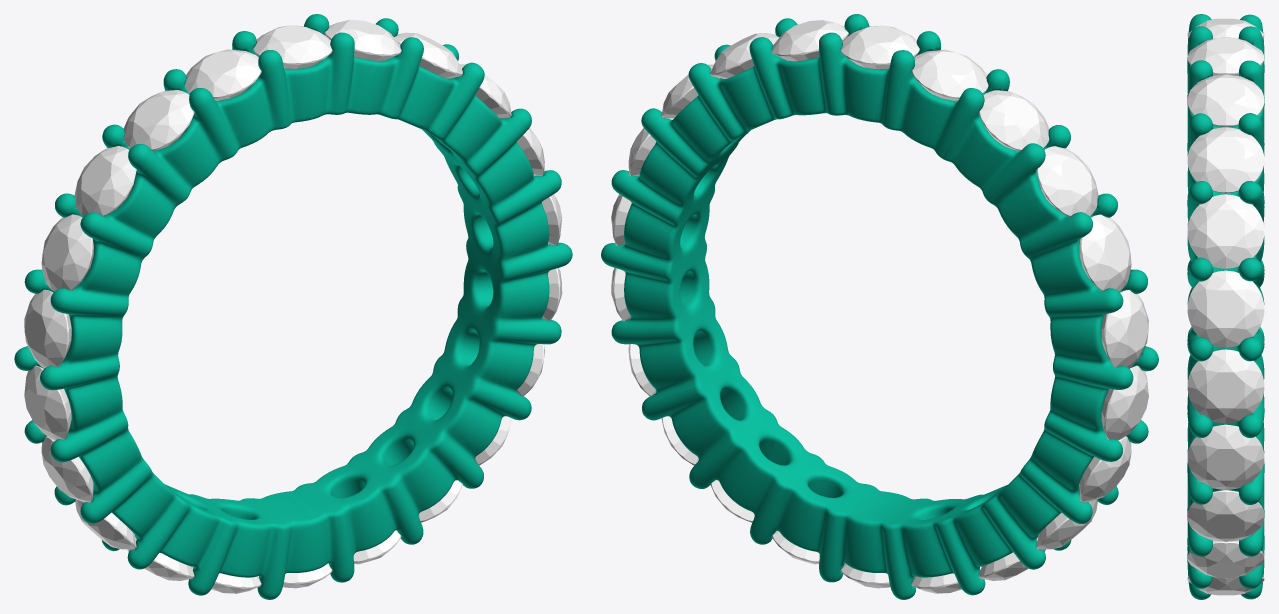
File: BE2U10D3_RENDER.glb
3 views of the same model, side by side, from view 1: azimuth 30°, elevation 25°; view 2: azimuth 150°, elevation 25°; view 3: azimuth 270°, elevation 25° (orthographic). The views are drawn at different scales.
Visible parts, largest first — view 1: Metal03, Diamond_Round_Gem_BD.018, Diamond_Round_Gem_BD.019, Diamond_Round_Gem_BD.017, Diamond_Round_Gem_BD.020, Diamond_Round_Gem_BD.016, Diamond_Round_Gem_BD.021, Diamond_Round_Gem_BD.015, Diamond_Round_Gem_BD, Diamond_Round_Gem_BD.014, Diamond_Round_Gem_BD.001, Diamond_Round_Gem_BD.013 (+4 smaller); view 2: Metal03, Diamond_Round_Gem_BD.018, Diamond_Round_Gem_BD.019, Diamond_Round_Gem_BD.017, Diamond_Round_Gem_BD.020, Diamond_Round_Gem_BD.016, Diamond_Round_Gem_BD.021, Diamond_Round_Gem_BD.015, Diamond_Round_Gem_BD, Diamond_Round_Gem_BD.014, Diamond_Round_Gem_BD.001, Diamond_Round_Gem_BD.013 (+4 smaller); view 3: Metal03, Diamond_Round_Gem_BD.003, Diamond_Round_Gem_BD.002, Diamond_Round_Gem_BD.004, Diamond_Round_Gem_BD.001, Diamond_Round_Gem_BD.005, Diamond_Round_Gem_BD, Diamond_Round_Gem_BD.006, Diamond_Round_Gem_BD.021, Diamond_Round_Gem_BD.007, Diamond_Round_Gem_BD.020, Diamond_Round_Gem_BD.008.
Boxes of the visible parts, box(x1,y1,x2,y2) form: Metal03: box(14, 14, 572, 599); Diamond_Round_Gem_BD.018: box(74, 146, 136, 216); Diamond_Round_Gem_BD.019: box(123, 90, 194, 150); Diamond_Round_Gem_BD.017: box(41, 214, 93, 291); Diamond_Round_Gem_BD.020: box(184, 49, 261, 100); Diamond_Round_Gem_BD.016: box(24, 289, 71, 368); Diamond_Round_Gem_BD.021: box(253, 25, 332, 68); Diamond_Round_Gem_BD.015: box(24, 365, 71, 440); Diamond_Round_Gem_BD: box(324, 19, 401, 60); Diamond_Round_Gem_BD.014: box(41, 436, 93, 502); Diamond_Round_Gem_BD.001: box(394, 32, 462, 78); Diamond_Round_Gem_BD.013: box(75, 499, 136, 549); Metal03: box(601, 14, 1158, 599); Diamond_Round_Gem_BD.018: box(1036, 146, 1098, 216); Diamond_Round_Gem_BD.019: box(978, 90, 1049, 151); Diamond_Round_Gem_BD.017: box(1079, 214, 1131, 291); Diamond_Round_Gem_BD.020: box(911, 49, 988, 100); Diamond_Round_Gem_BD.016: box(1101, 290, 1148, 368); Diamond_Round_Gem_BD.021: box(840, 25, 919, 69); Diamond_Round_Gem_BD.015: box(1101, 365, 1148, 440); Diamond_Round_Gem_BD: box(771, 20, 848, 61); Diamond_Round_Gem_BD.014: box(1079, 436, 1131, 502); Diamond_Round_Gem_BD.001: box(710, 33, 779, 78); Diamond_Round_Gem_BD.013: box(1036, 499, 1097, 549); Metal03: box(1187, 14, 1264, 599); Diamond_Round_Gem_BD.003: box(1187, 270, 1264, 347); Diamond_Round_Gem_BD.002: box(1187, 194, 1264, 268); Diamond_Round_Gem_BD.004: box(1187, 349, 1264, 423); Diamond_Round_Gem_BD.001: box(1187, 127, 1264, 193); Diamond_Round_Gem_BD.005: box(1187, 424, 1264, 490); Diamond_Round_Gem_BD: box(1187, 74, 1264, 126); Diamond_Round_Gem_BD.006: box(1187, 490, 1264, 541); Diamond_Round_Gem_BD.021: box(1187, 37, 1264, 75); Diamond_Round_Gem_BD.007: box(1187, 540, 1264, 578); Diamond_Round_Gem_BD.020: box(1187, 19, 1264, 38); Diamond_Round_Gem_BD.008: box(1187, 576, 1264, 595).
Bounding box in the file's own units: 22.86 × 22.63 × 3.01.
